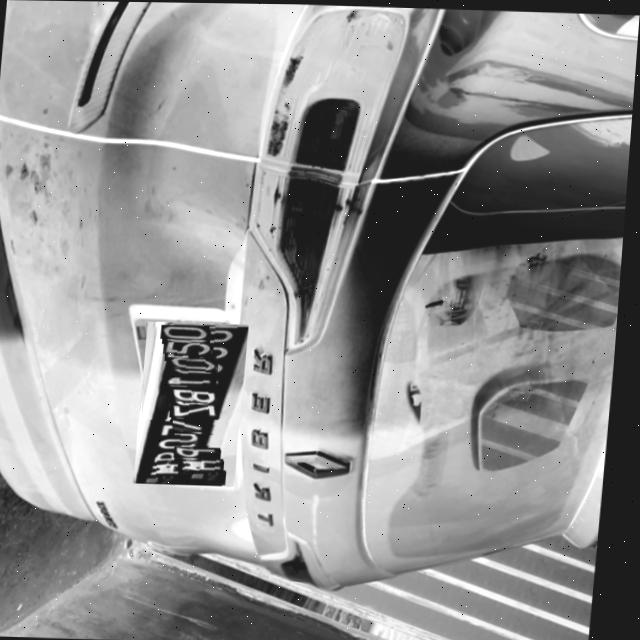0: (170, 356, 220, 371), (164, 324, 213, 339), (179, 432, 224, 446)
1: (169, 372, 219, 385)
5: (166, 341, 215, 356)
7: (177, 417, 225, 433)
B: (173, 388, 222, 404)
IND: (194, 468, 231, 483)
Indian_registered: (140, 324, 252, 484)
M: (183, 456, 229, 470)
P: (179, 445, 226, 458)
Z: (174, 401, 223, 418)
